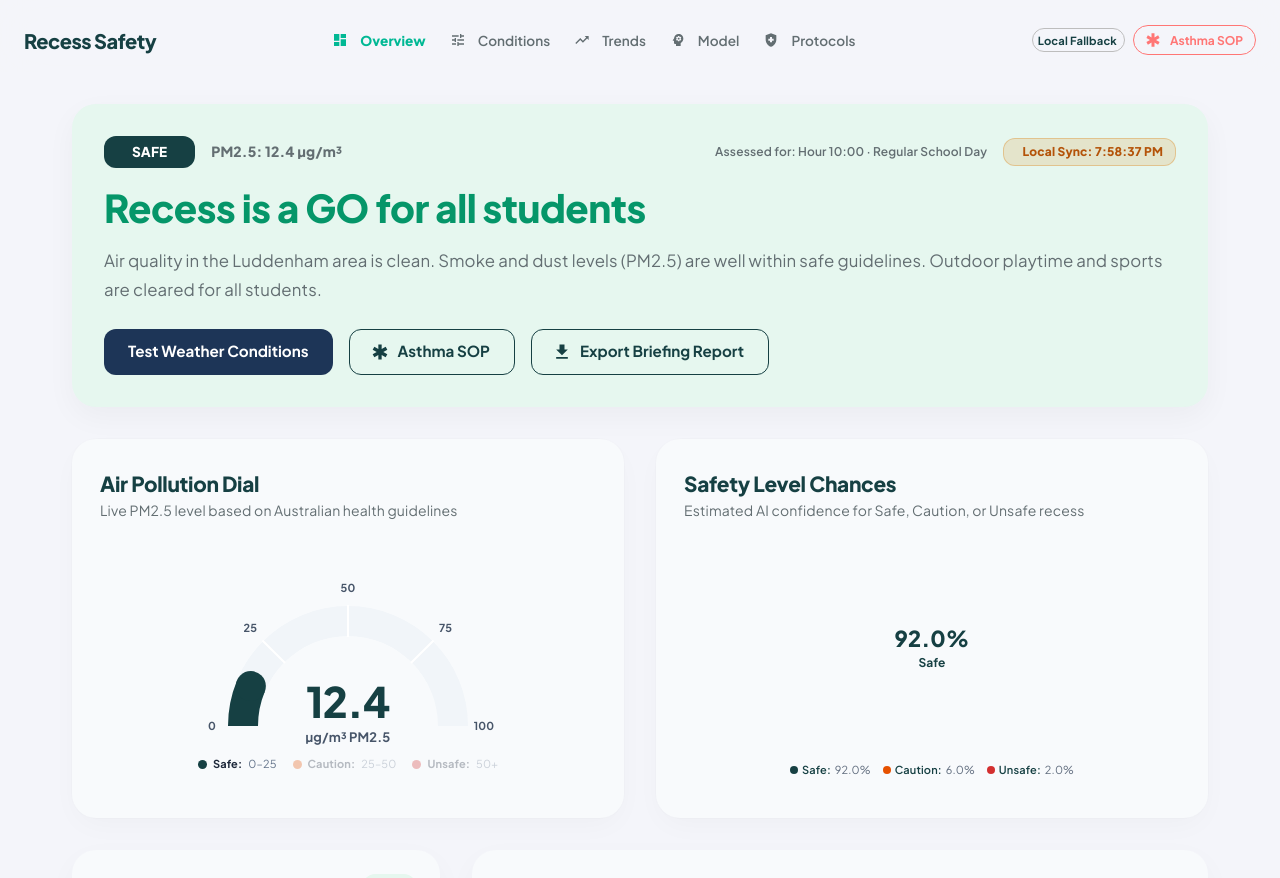
Test: Recess Safety Advisor - Frontend Integration Tests › validates accessible sliders and input controls on simulator
The width and height of the screenshot is (1280, 878).
Switch to Conditions tab
Click the tab "Conditions": (500,40) [438, 18, 562, 62]
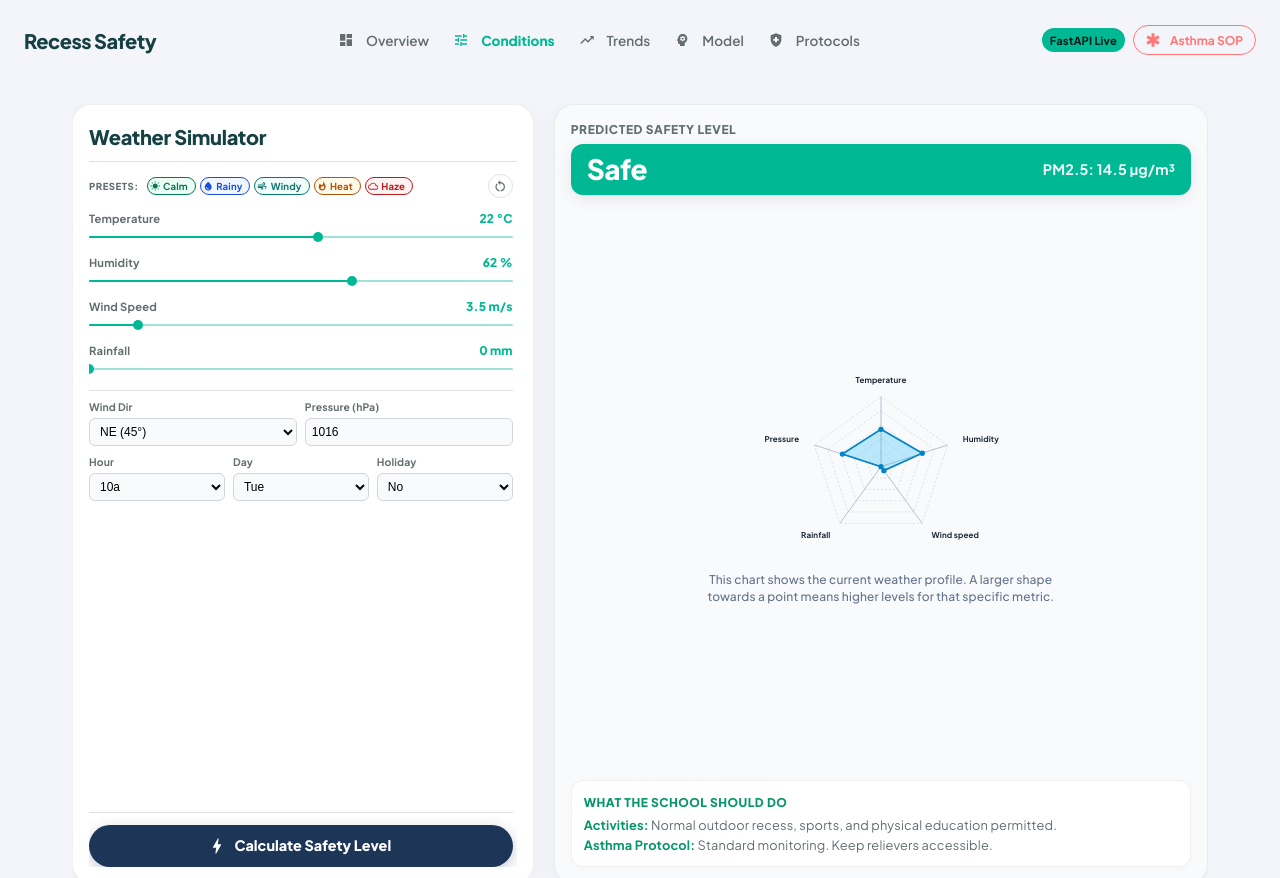
Now the button "Calculate Safety Level" is shown, box [89, 825, 513, 867]
